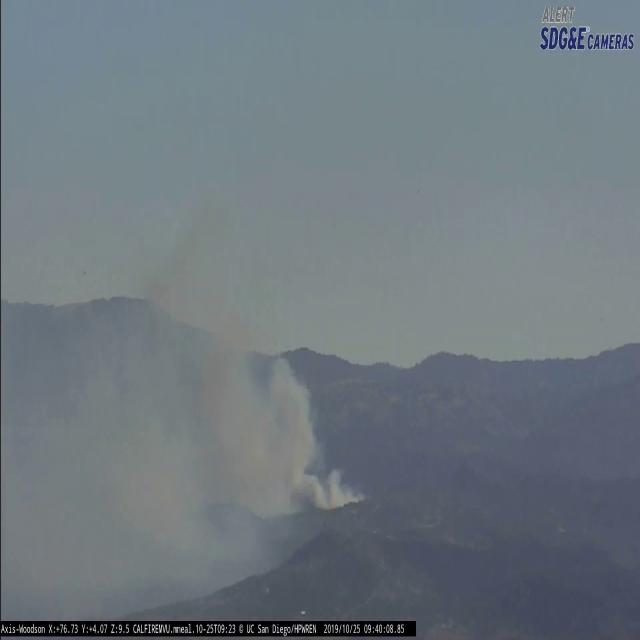smoke: (147, 193, 366, 592), (0, 205, 190, 613)
